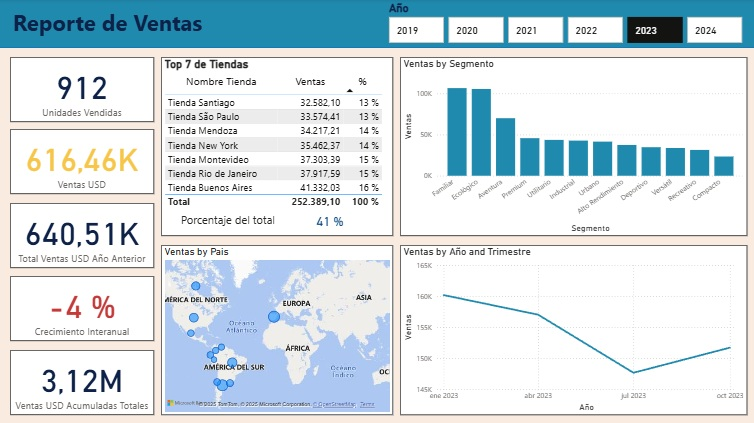

This screenshot's page, from the dashboard's own definition file:
{"tool":"powerbi","page":{"name":"Page 1","canvas":[1280,720],"ordinal":4},"visuals":[{"type":"shape","box":[0,0,1280,83],"z":0},{"type":"advancedSlicerVisual","fields":{"Values":["Fechas.Date.Variación.Jerarquía de fechas.Año"]},"box":[655.2,3.4,611.2,76.2],"z":1000},{"type":"textbox","box":[18.6,8.5,463.9,66],"z":2000},{"type":"card","fields":{"Values":["Ventas.Ventas"]},"box":[18.6,220.1,243.8,110.1],"z":3000},{"type":"card","fields":{"Values":["Ventas.Unidades Vendidas"]},"box":[18.6,98.2,243.8,110.1],"z":4000},{"type":"card","fields":{"Values":["Ventas.Total Ventas Año Anterior"]},"box":[18.6,345.4,243.8,110.1],"z":5000},{"type":"card","fields":{"Values":["Ventas.Crecimiento Interanual"]},"box":[18.6,469,243.8,110.1],"z":6000},{"type":"card","fields":{"Values":["Ventas.Ventas Acumuladas"]},"box":[18.6,594.3,243.8,110.1],"z":7000},{"type":"tableEx","title":"Top 7 de Tiendas","fields":{"Values":["Tiendas.Nombre Tienda","Ventas.Ventas","Ventas.% Ventas por Tienda"]},"box":[274.3,98.2,392.8,303.1],"z":8000},{"type":"columnChart","fields":{"Category":["Producto.Segmento"],"Y":["Ventas.Ventas"]},"box":[678.9,98.2,587.5,303.1],"z":9000},{"type":"lineChart","fields":{"Y":["Ventas.Ventas"],"Category":["Fechas.Date.Variación.Jerarquía de fechas.Año","Fechas.Date.Variación.Jerarquía de fechas.Trimestre"]},"box":[678.9,416.5,587.5,287.8],"z":10000},{"type":"map","fields":{"Category":["Tiendas.Pais","Tiendas.Ciudad"],"Size":["Ventas.Ventas"]},"box":[274.3,416.5,392.8,287.8],"z":11000},{"type":"card","fields":{"Values":["Ventas.% Top 7 del Total"]},"box":[519.8,355.6,81.3,40.6],"z":12000},{"type":"textbox","box":[303.1,355.6,179.5,40.6],"z":13000}]}

Visuals, with their boxes in screenshot pixels (x1, y1, x2, y2), scaled from the page's 1280x720 canvas onto the 754x423 screenshot:
shape: x1=0, y1=0, x2=753, y2=49
advancedSlicerVisual - Fechas.Date.Variación.Jerarquía de fechas.Año: x1=386, y1=2, x2=746, y2=47
textbox: x1=11, y1=5, x2=284, y2=44
card - Ventas.Ventas: x1=11, y1=129, x2=155, y2=194
card - Ventas.Unidades Vendidas: x1=11, y1=58, x2=155, y2=122
card - Ventas.Total Ventas Año Anterior: x1=11, y1=203, x2=155, y2=268
card - Ventas.Crecimiento Interanual: x1=11, y1=276, x2=155, y2=340
card - Ventas.Ventas Acumuladas: x1=11, y1=349, x2=155, y2=414
"Top 7 de Tiendas" tableEx: x1=162, y1=58, x2=393, y2=236
columnChart - Producto.Segmento x Ventas.Ventas: x1=400, y1=58, x2=746, y2=236
lineChart - Ventas.Ventas x Fechas.Date.Variación.Jerarquía de fechas.Año: x1=400, y1=245, x2=746, y2=414
map - Tiendas.Pais x Tiendas.Ciudad: x1=162, y1=245, x2=393, y2=414
card - Ventas.% Top 7 del Total: x1=306, y1=209, x2=354, y2=233
textbox: x1=179, y1=209, x2=284, y2=233
